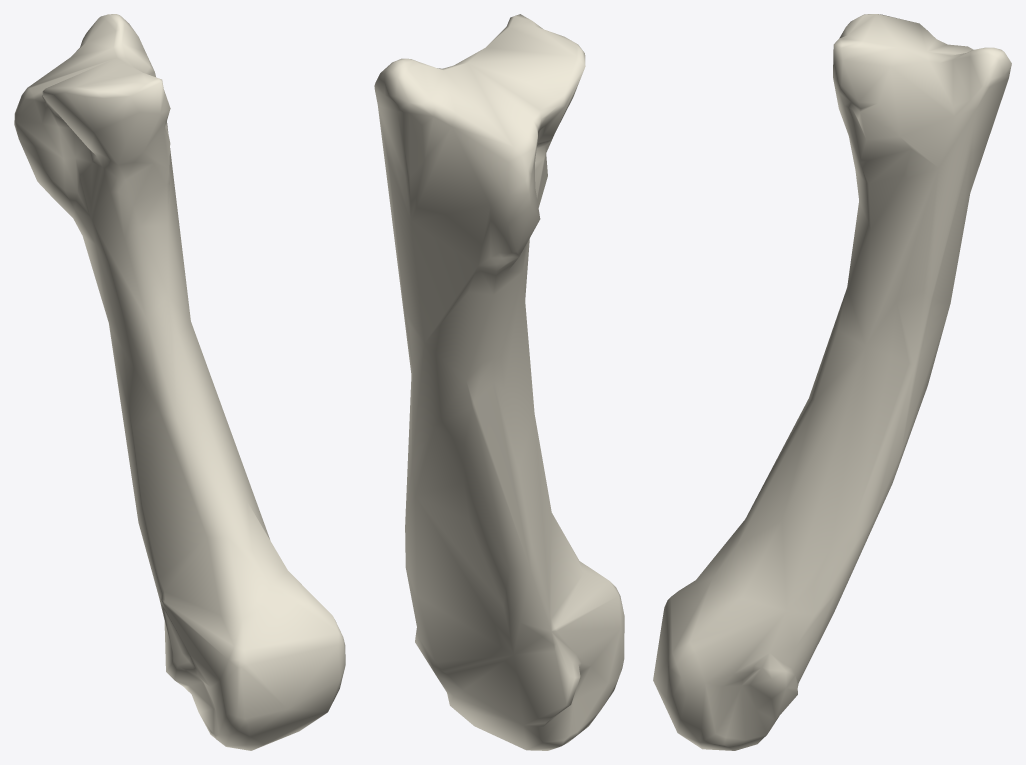
3 views of the same model, side by side, from view 1: azimuth 30°, elevation 25°; view 2: azimuth 150°, elevation 25°; view 3: azimuth 270°, elevation 25° (orthographic). The views are drawn at different scales.
Parts seen in each view (by area): view 1: ZA_dd7c3d15646d92bd; view 2: ZA_dd7c3d15646d92bd; view 3: ZA_dd7c3d15646d92bd.
Part boxes in pixels (bbox=[...]): ZA_dd7c3d15646d92bd: bbox=[14, 14, 345, 750]; ZA_dd7c3d15646d92bd: bbox=[374, 14, 624, 750]; ZA_dd7c3d15646d92bd: bbox=[653, 14, 1011, 750].
Bounding box in the file's own units: 0.0208 × 0.0667 × 0.0317.
